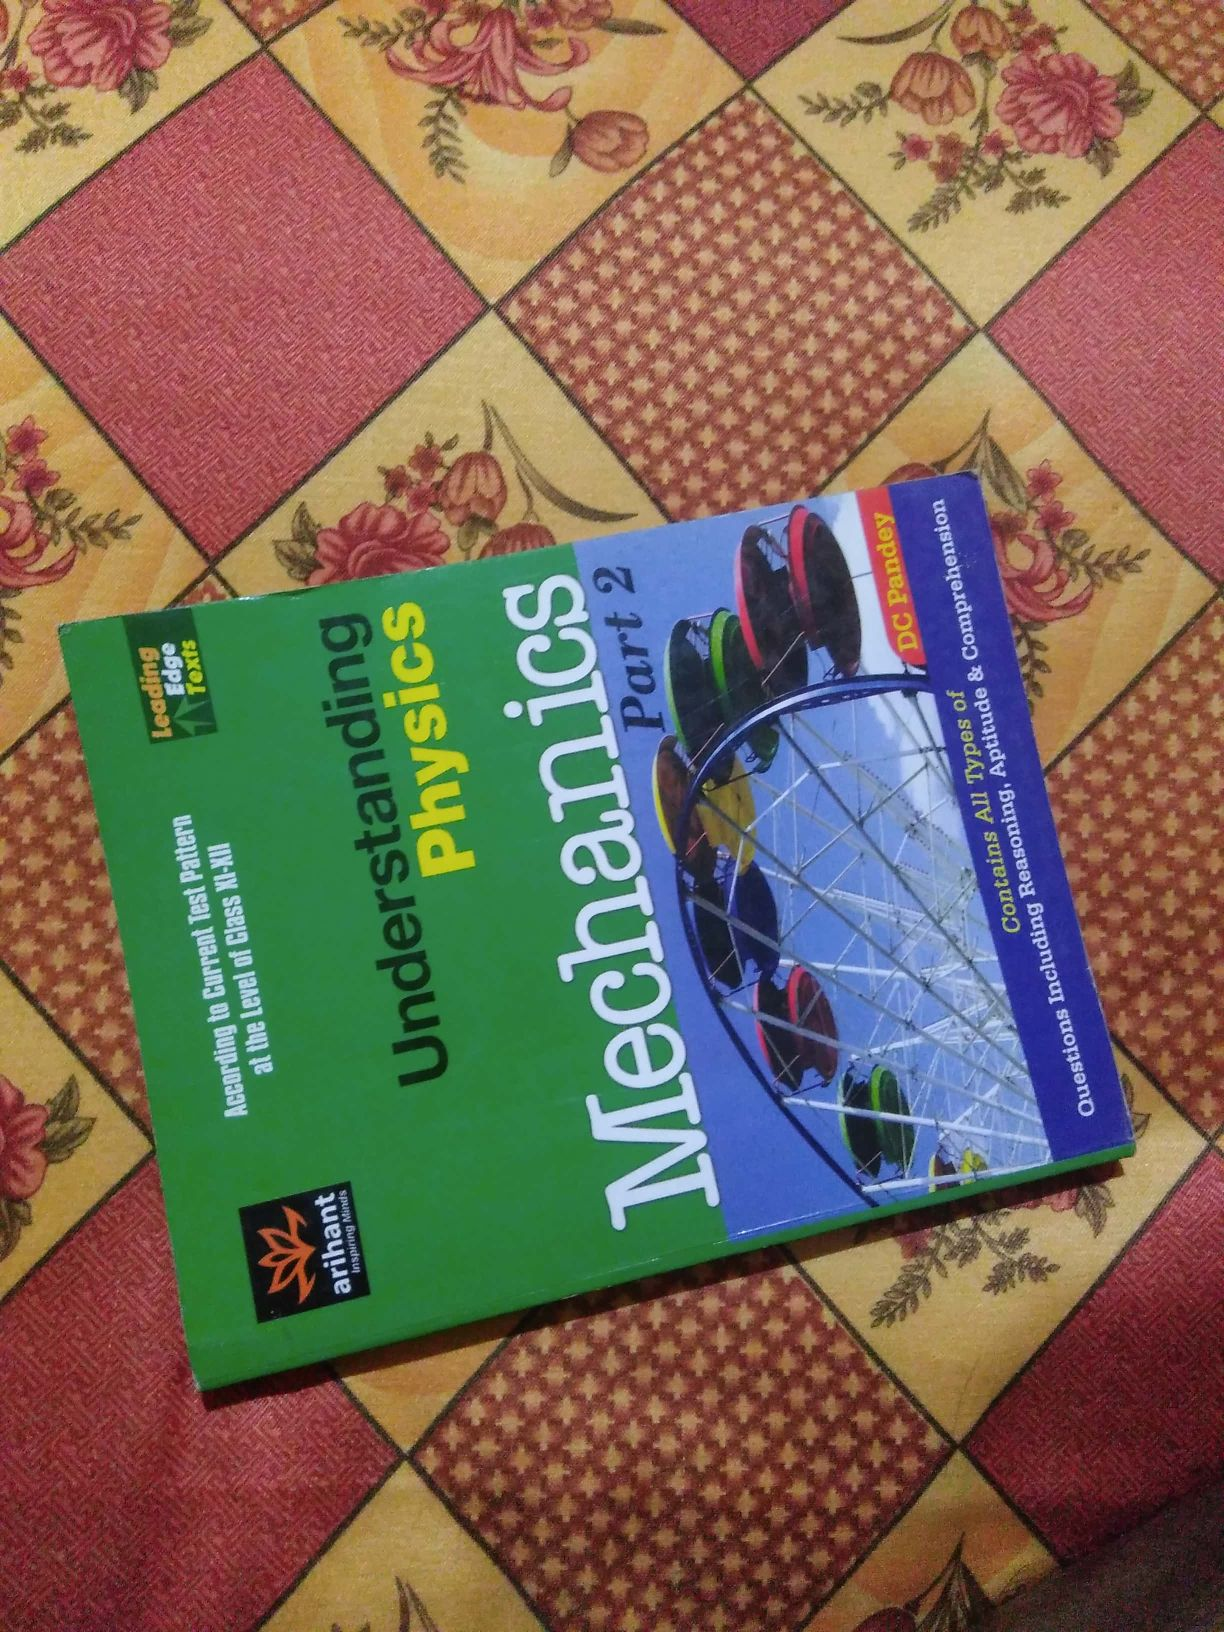mechanics: (15, 538, 1137, 1344)
